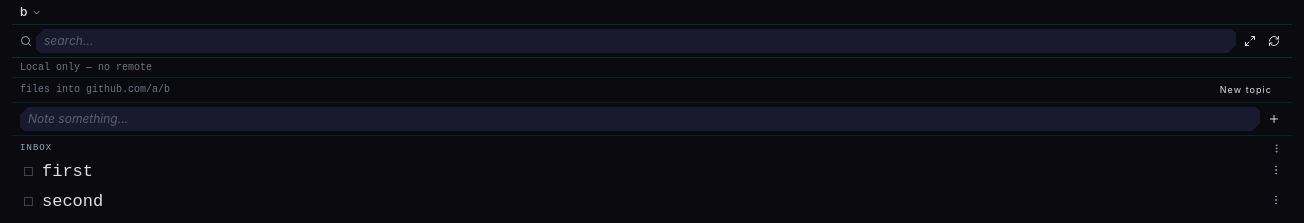
Scenario: managing what is in the list › offers the actions on a VISIBLE control, not only on right-click
This screenshot has width=1304, height=223.
Expected: the text "first" is shown, left=42, top=162, right=93, bottom=181
Click the button named "Actions for first": (1276, 170) left=1268, top=164, right=1284, bottom=176
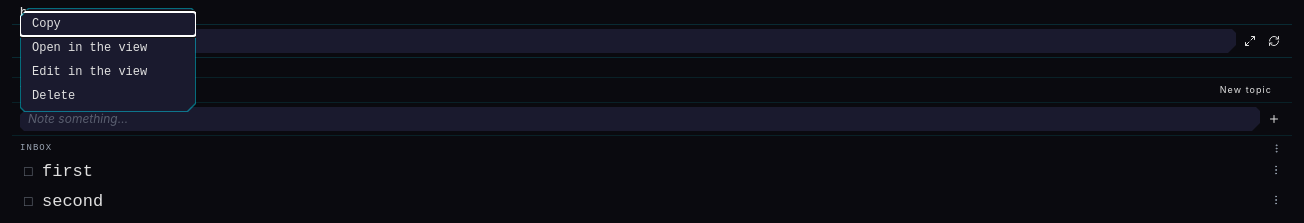
Expected: the menu item "Delete" is shown, left=20, top=84, right=196, bottom=108
Expected: the menu item "Copy" is shown, left=20, top=12, right=196, bottom=36
